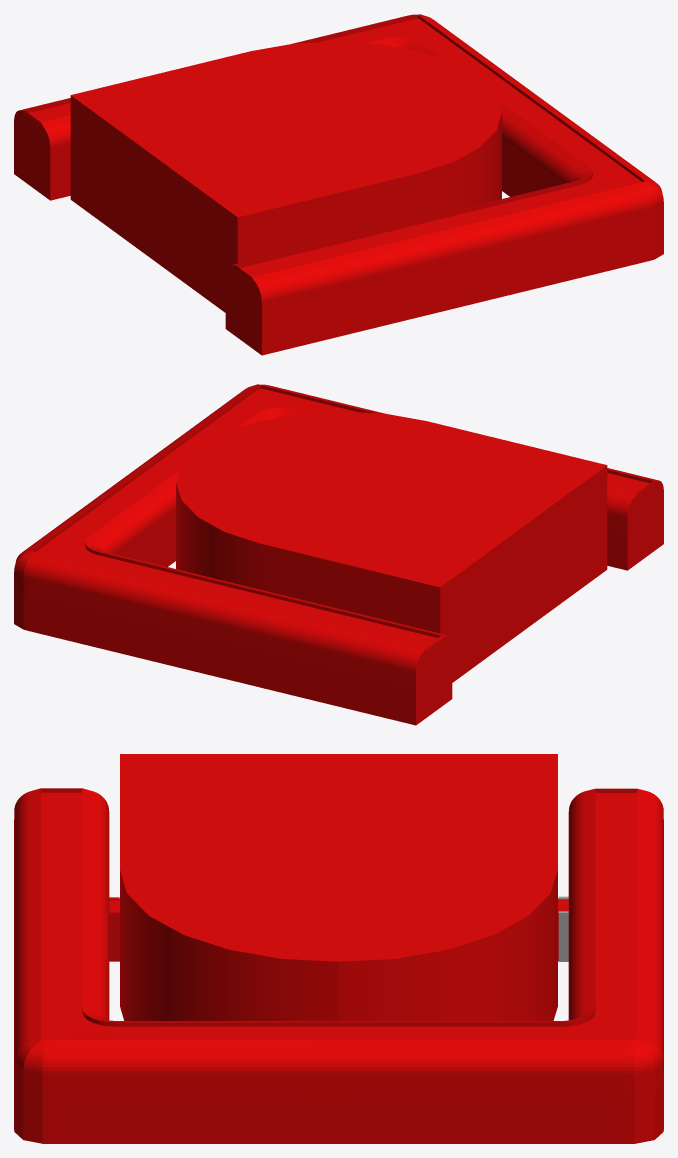
The model's file is Blackable.fbx.
3 views of the same model, one above another, from view 1: azimuth 30°, elevation 25°; view 2: azimuth 150°, elevation 25°; view 3: azimuth 270°, elevation 25° (orthographic). The views are drawn at different scales.
Visible parts, largest first — view 1: Blockable; view 2: Blockable; view 3: Blockable.
Part boxes in pixels (x1,y1,x2,y2): Blockable: (14,14,663,355); Blockable: (14,384,663,725); Blockable: (14,754,663,1143).
Bounding box in the file's own units: 2737 × 664 × 2855.
